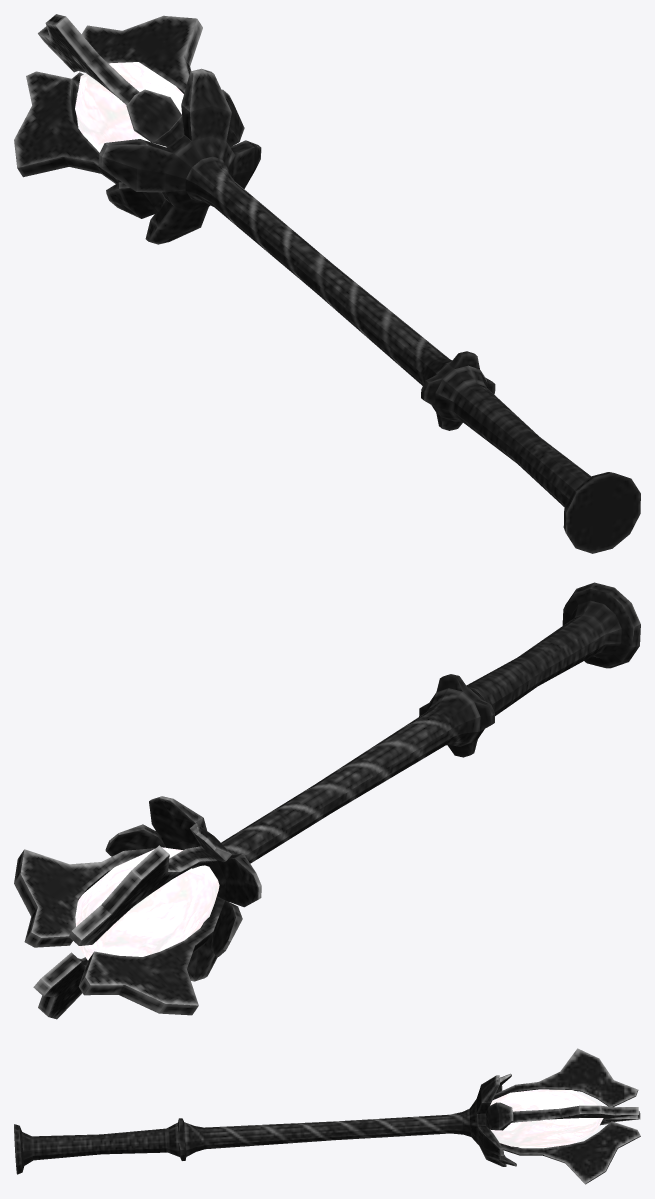
File: wep_mace2.glb
The picture shows the model from 3 angles, top to bottom: view 1: azimuth 30°, elevation 25°; view 2: azimuth 150°, elevation 25°; view 3: azimuth 270°, elevation 25°; orthographic projection. The views are drawn at different scales.
Visible parts, largest first — view 1: Object_4, Object_6; view 2: Object_4, Object_6; view 3: Object_4, Object_6.
Boxes of the visible parts, left/top/right/bottom form: Object_4: left=14, top=14, right=640, bottom=553; Object_6: left=75, top=62, right=183, bottom=152; Object_4: left=14, top=582, right=640, bottom=1019; Object_6: left=75, top=847, right=219, bottom=960; Object_4: left=14, top=1048, right=640, bottom=1184; Object_6: left=490, top=1089, right=603, bottom=1148.
Size of the model in its own units: 2.92 by 2.92 by 15.09.
2 materials, 2 textured.
